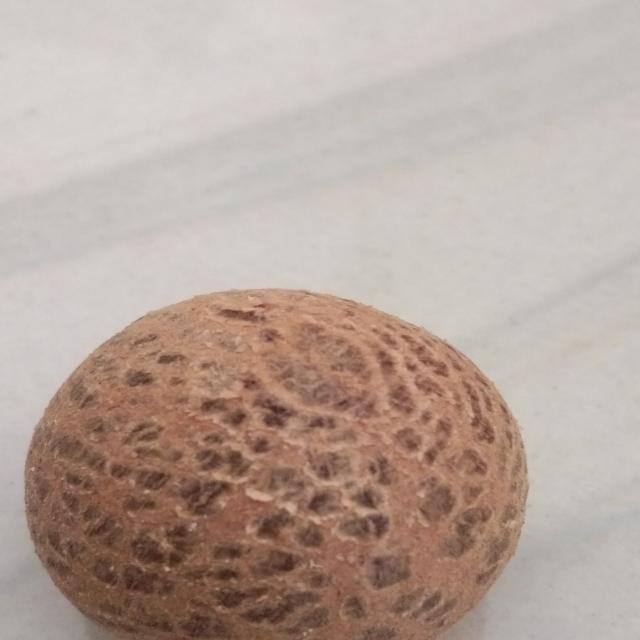good: (34, 281, 556, 640)
